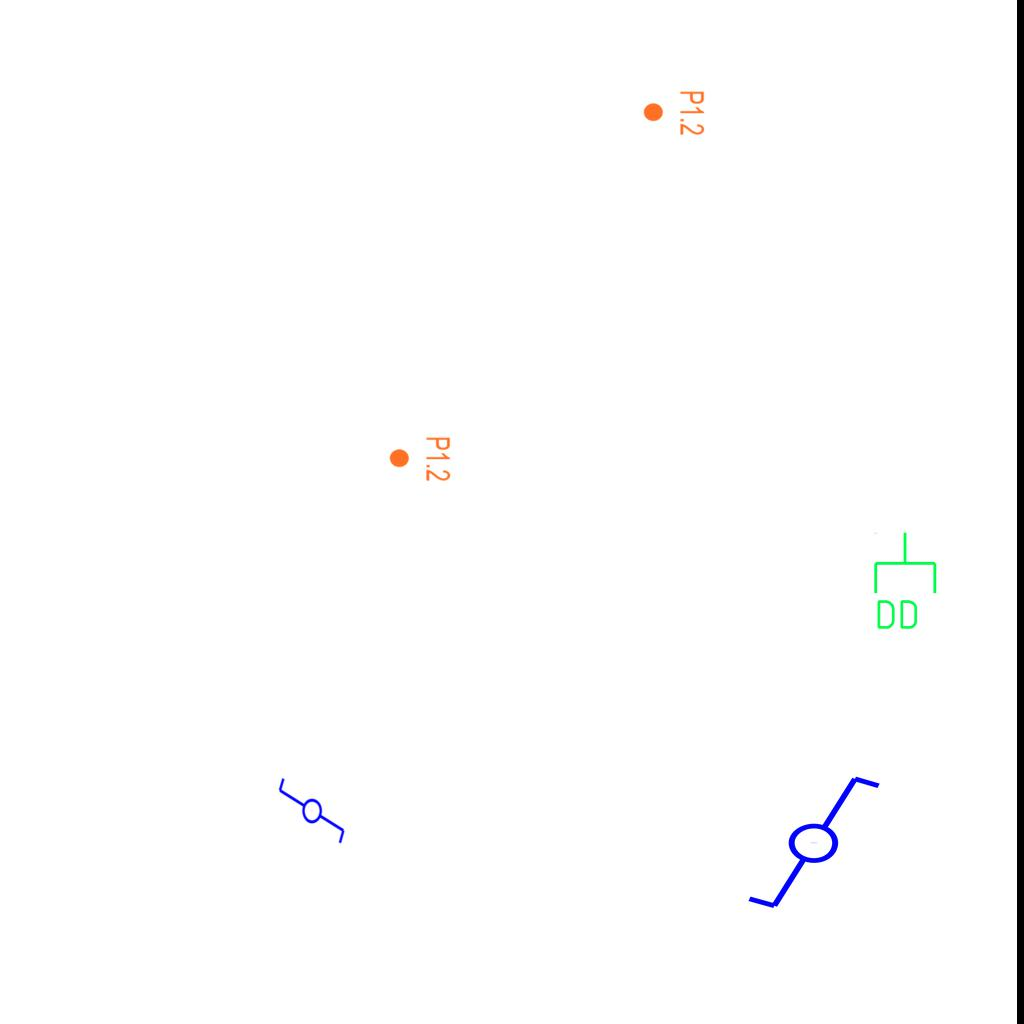Datenanschluss_zweifach: (870, 530, 939, 633)
Downlight_LED_Einbauleuchten_Flur: (388, 436, 452, 482), (642, 90, 706, 136)
Wechselschalter: (727, 769, 884, 913), (275, 776, 347, 854)
